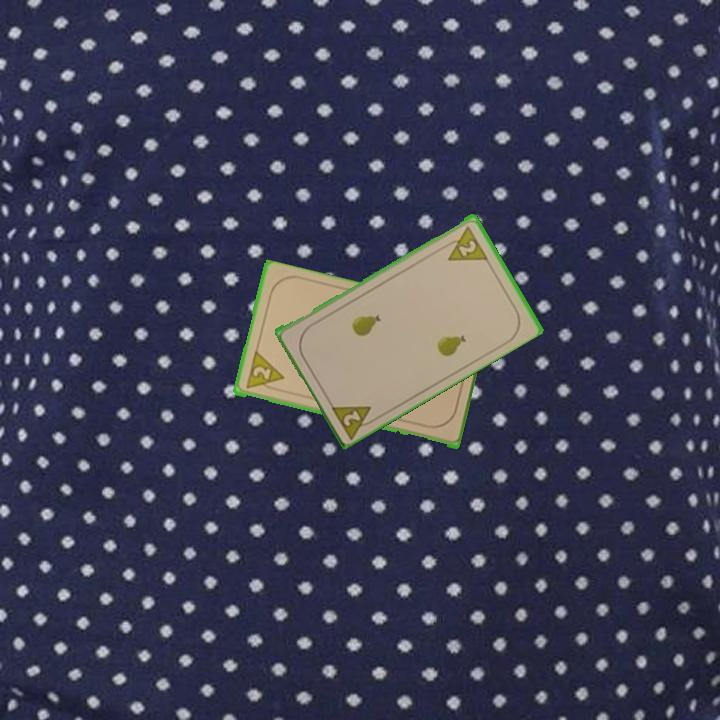2p: (327, 400, 381, 441), (439, 222, 490, 264), (242, 349, 286, 393)
